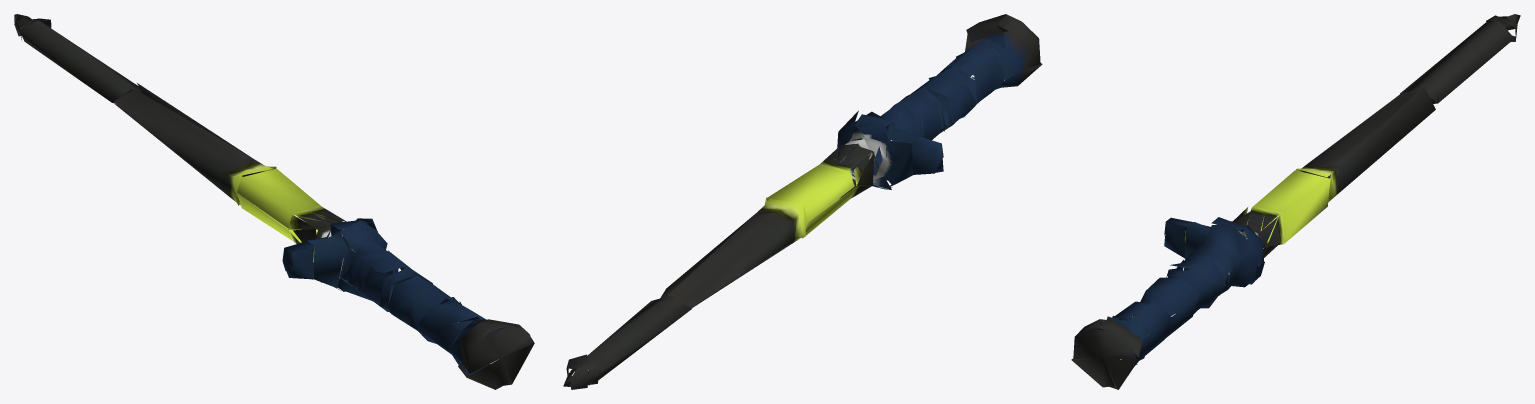
Rendered from m_short_sword_lod1.fbx.
3 renders of one model, left to right at view 1: azimuth 30°, elevation 25°; view 2: azimuth 150°, elevation 25°; view 3: azimuth 330°, elevation 25°, orthographic. The views are drawn at different scales.
Visible parts, largest first — view 1: tripo_node_fc84e0b2-8ee2-43df-ac50-9929bdc6f358; view 2: tripo_node_fc84e0b2-8ee2-43df-ac50-9929bdc6f358; view 3: tripo_node_fc84e0b2-8ee2-43df-ac50-9929bdc6f358.
Part boxes in pixels (box(x1,y1,x2,y2)): tripo_node_fc84e0b2-8ee2-43df-ac50-9929bdc6f358: box(14, 14, 534, 389); tripo_node_fc84e0b2-8ee2-43df-ac50-9929bdc6f358: box(563, 14, 1042, 389); tripo_node_fc84e0b2-8ee2-43df-ac50-9929bdc6f358: box(1071, 14, 1520, 389).
Bounding box in the file's own units: 0.1459 × 0.0901 × 1.06.
